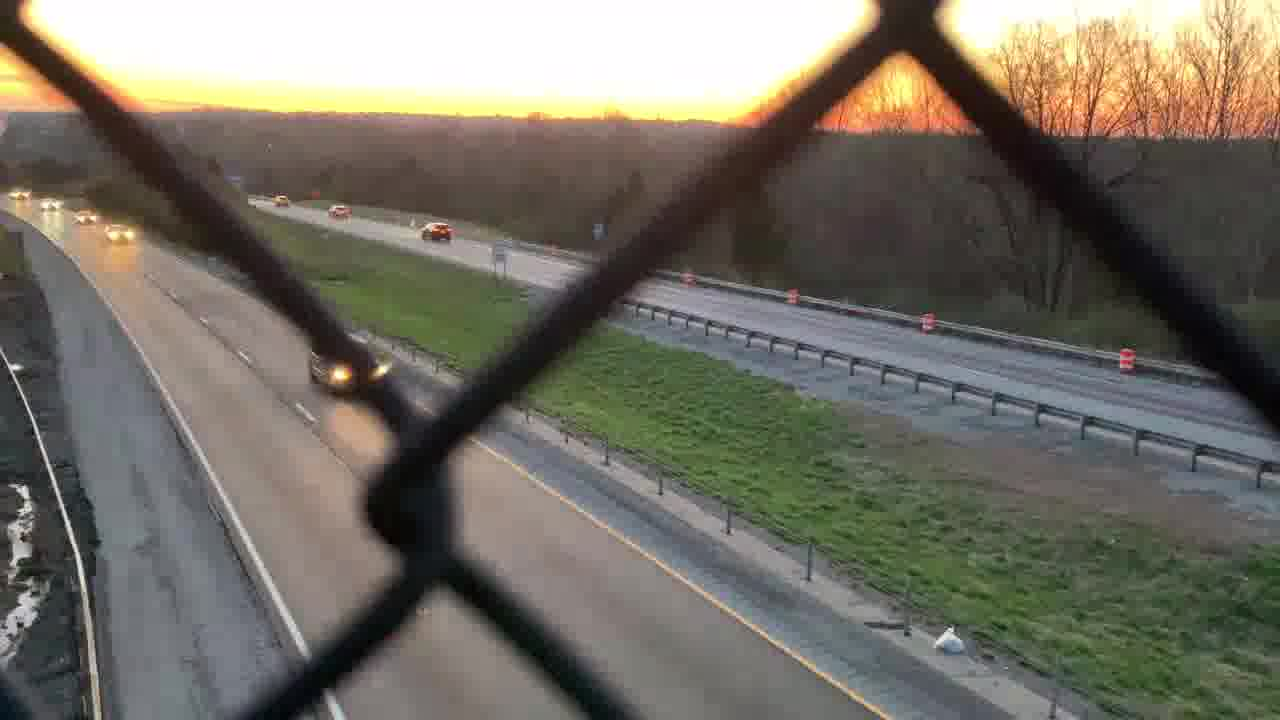largeCar: (305, 331, 394, 399), (420, 216, 454, 242)
vehicle: (106, 221, 139, 244), (73, 209, 101, 227), (331, 199, 352, 222), (36, 195, 63, 211), (271, 191, 291, 211), (9, 186, 30, 203)
